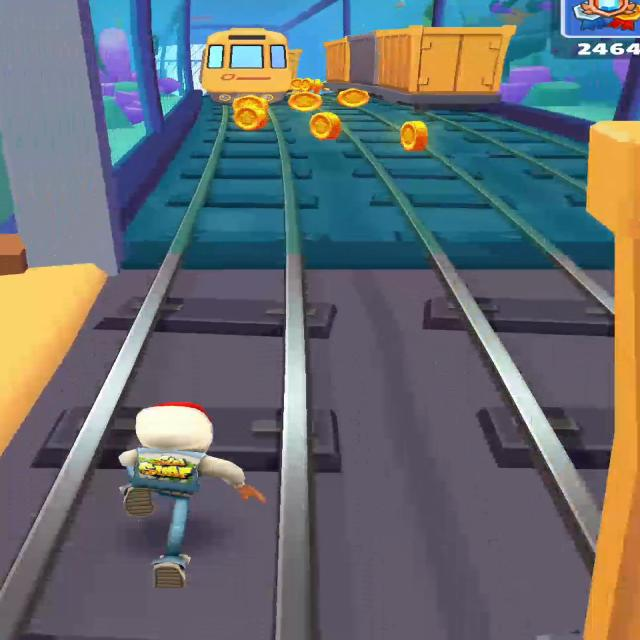train: (325, 25, 516, 96), (200, 28, 296, 105), (289, 49, 302, 79)
